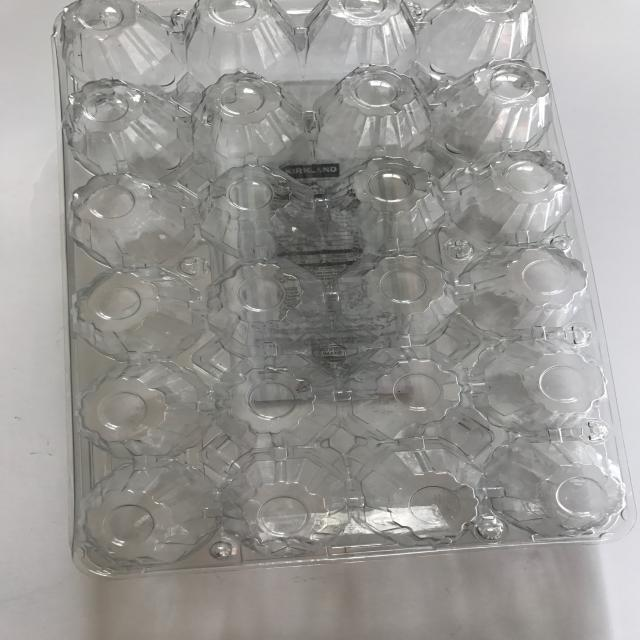plastic: (45, 2, 640, 582)
